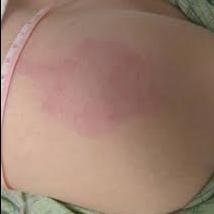Stage1: (28, 35, 186, 154)
